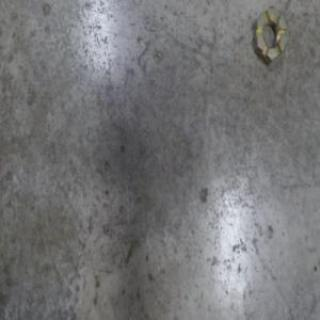Nuttrack_idkeyframe: (250, 6, 288, 69)
